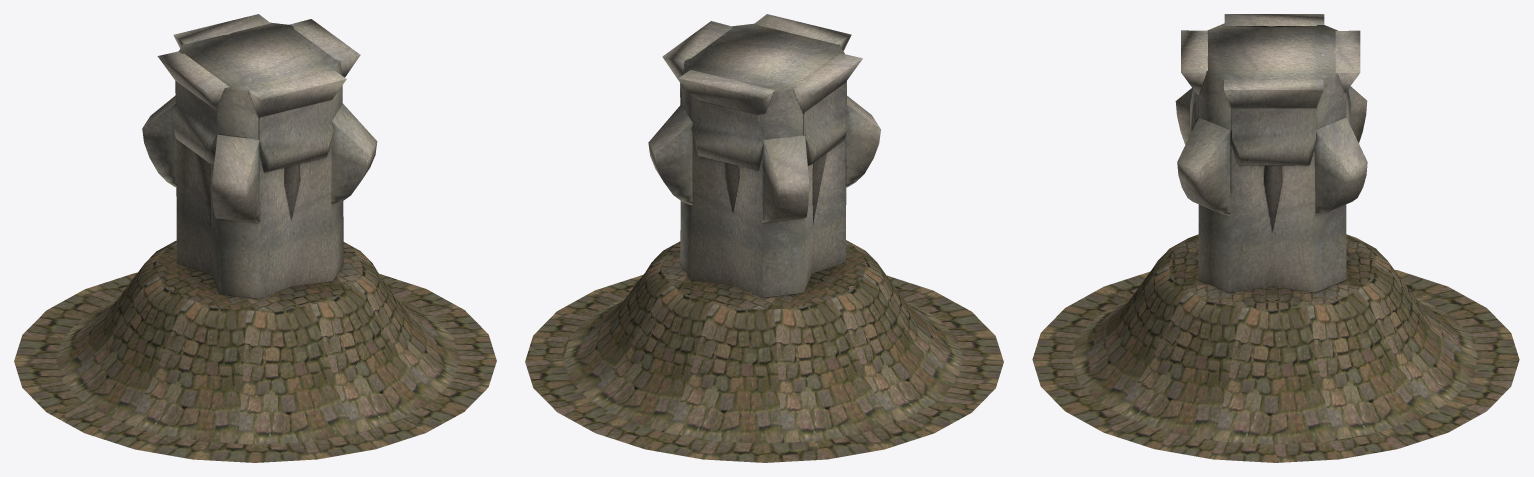
Rendered from sculpture_03.fbx.
The picture shows the model from 3 angles, left to right: view 1: azimuth 30°, elevation 25°; view 2: azimuth 150°, elevation 25°; view 3: azimuth 270°, elevation 25°; orthographic projection.
Parts seen in each view (by area): view 1: Mesh; view 2: Mesh; view 3: Mesh.
Boxes of the visible parts, x1=… form: Mesh: x1=14, y1=14, x2=496, y2=462; Mesh: x1=525, y1=14, x2=1003, y2=462; Mesh: x1=1032, y1=14, x2=1519, y2=462.
Size of the model in its own units: 330 by 231 by 329.
